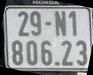-: (45, 21, 52, 27)
.: (55, 61, 60, 66)
0: (27, 40, 39, 65)
1: (69, 10, 78, 37)
2: (18, 11, 30, 36), (61, 40, 73, 65)
3: (76, 41, 87, 65)
6: (40, 40, 53, 65)
8: (12, 39, 23, 66)
9: (31, 11, 42, 36)
N: (55, 10, 67, 37)
